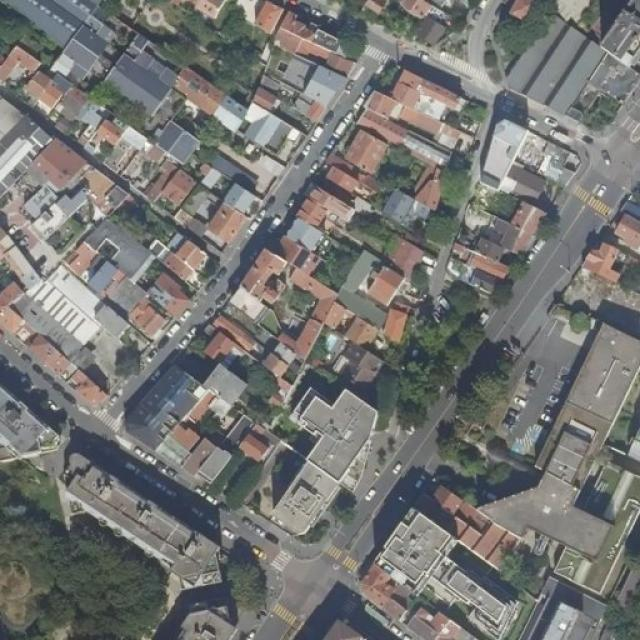immeuble: (482, 314, 640, 566), (60, 447, 224, 582), (371, 501, 514, 640), (268, 383, 399, 534), (211, 243, 352, 367), (142, 357, 272, 486), (350, 72, 484, 147), (474, 116, 596, 192), (272, 12, 356, 104), (318, 115, 406, 197), (63, 237, 147, 314), (28, 330, 107, 410), (98, 31, 176, 112), (214, 85, 294, 158), (280, 184, 360, 248), (127, 270, 204, 336), (0, 392, 70, 459), (206, 179, 277, 245), (92, 116, 160, 182), (357, 255, 425, 321), (53, 10, 115, 79), (127, 147, 194, 209), (5, 50, 64, 114), (16, 181, 80, 238), (169, 62, 227, 116), (30, 141, 86, 186), (146, 115, 196, 164), (78, 165, 126, 216), (159, 238, 204, 289), (0, 283, 37, 338)
maison: (462, 191, 554, 253), (439, 232, 522, 293), (584, 233, 623, 285)
